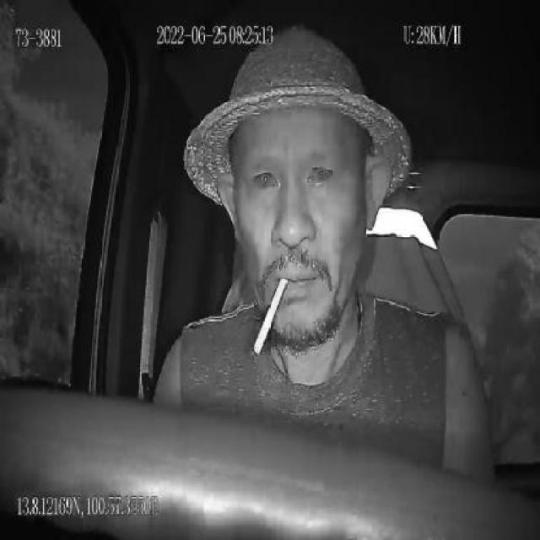smoking: (255, 277, 288, 352)
